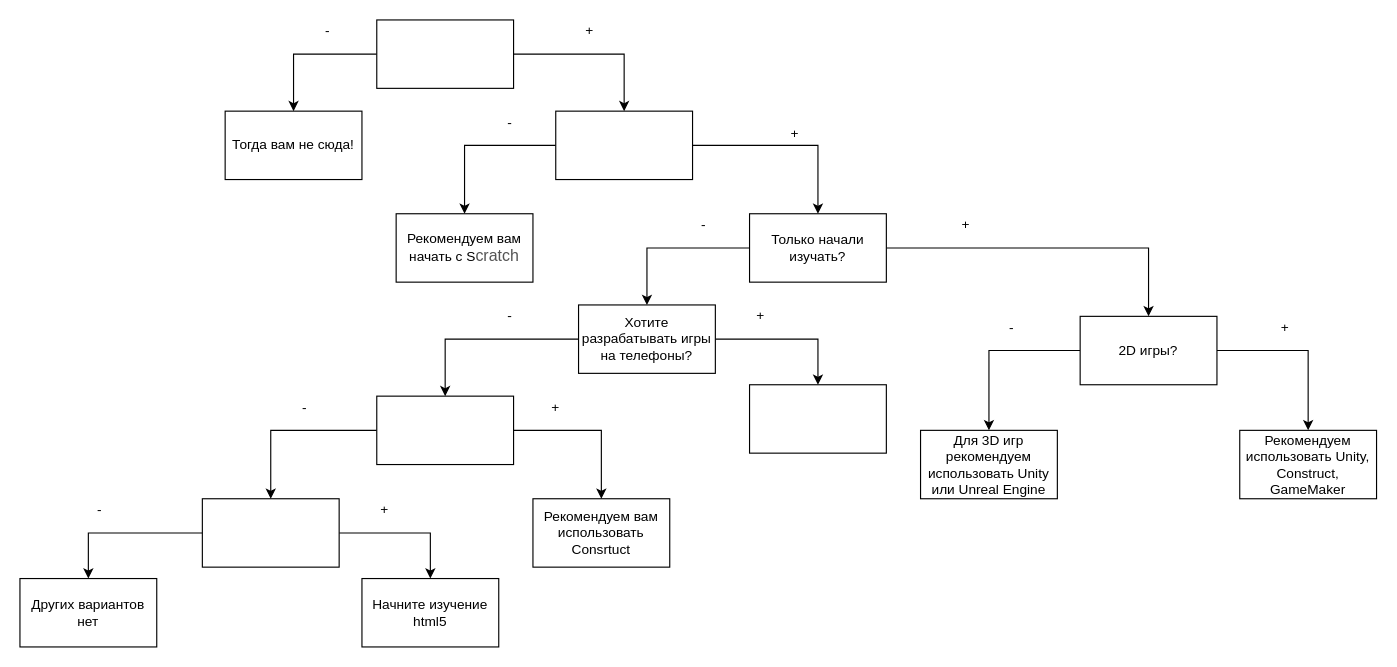
Some shapes in this 1397 by 667 pixel diagram are drawn without their labels. The centre of each missing label's shape, as x and y in pixels:
Начните с изучения Android Studio или XCode: the point at 817,418
Уже знакомы с программированием?: the point at 624,145
Хотите заниматься разработкой игр?: the point at 445,53
Хотите разрабатывать игры на веб?: the point at 270,532
Хотите разрабатывать игры на пк?: the point at 445,430
